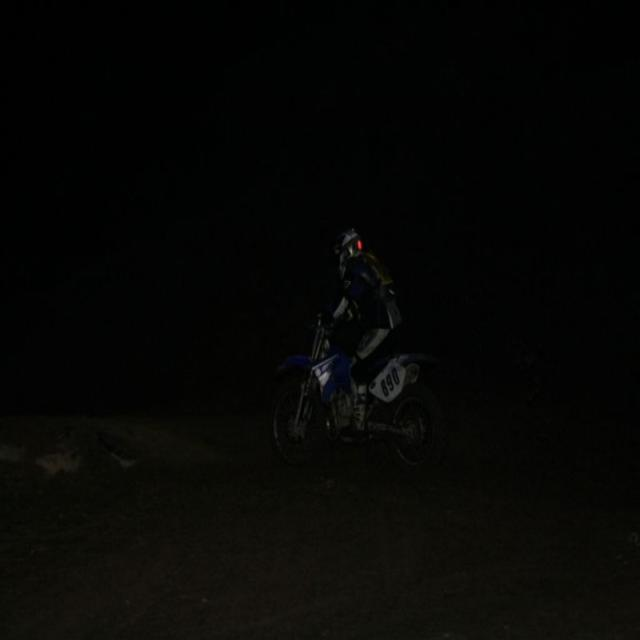Motorbike: (267, 204, 501, 536)
